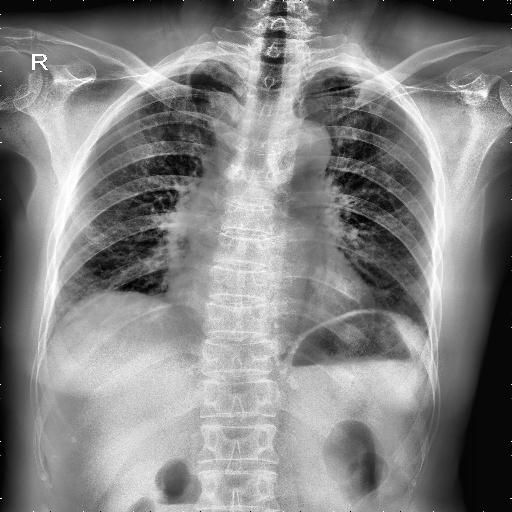0- Aortic enlargement: (260, 114, 332, 186), (266, 121, 334, 195), (269, 120, 332, 176)
3- Cardiomegaly: (167, 278, 376, 334)
